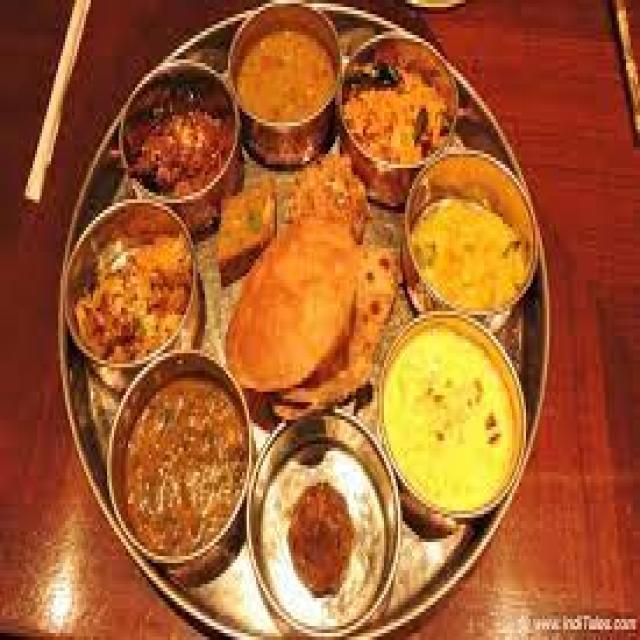dal: (385, 335, 523, 509)
papad: (226, 159, 371, 403)
pickle: (262, 444, 386, 620)
rice: (63, 187, 198, 377), (342, 35, 454, 171), (412, 186, 531, 310)
sweet: (264, 441, 393, 620), (117, 69, 238, 214)
